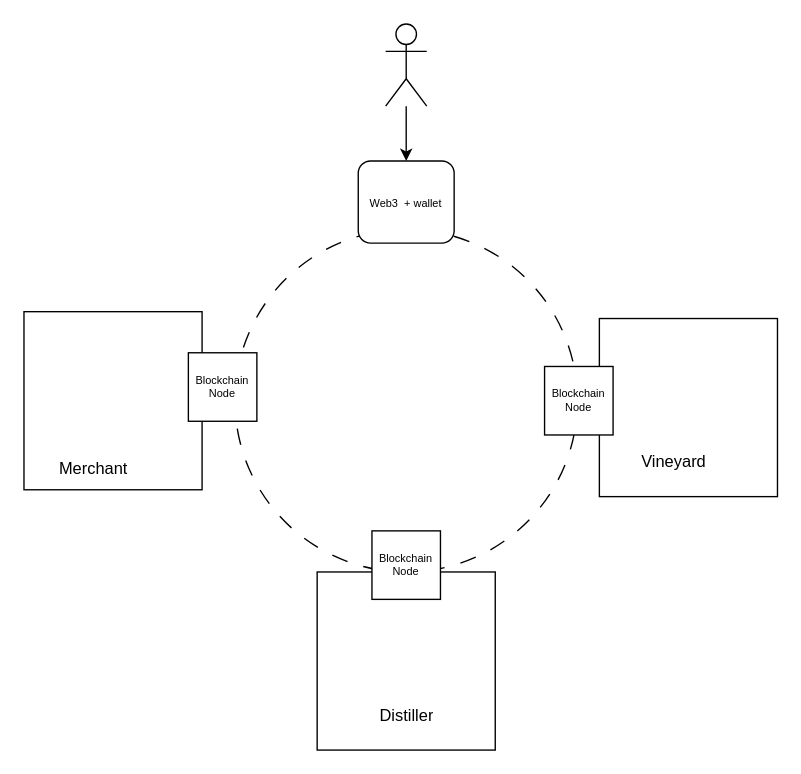
This 801x774 diagram has some shape labels left out. The box of each missing label's shape, as (x1, y1, x2, y2) in pixels:
Blockchain network: (234, 228, 577, 572)
Consumer: (384, 23, 427, 106)
